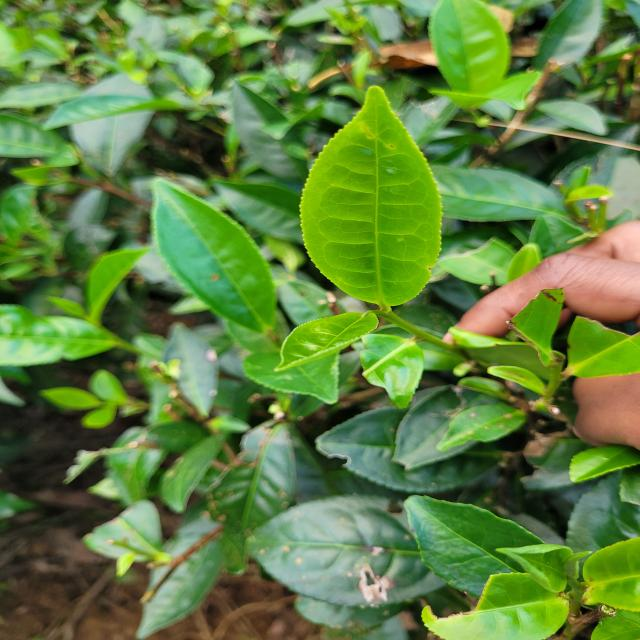Catagory A(1-2 days): (267, 290, 402, 388)
